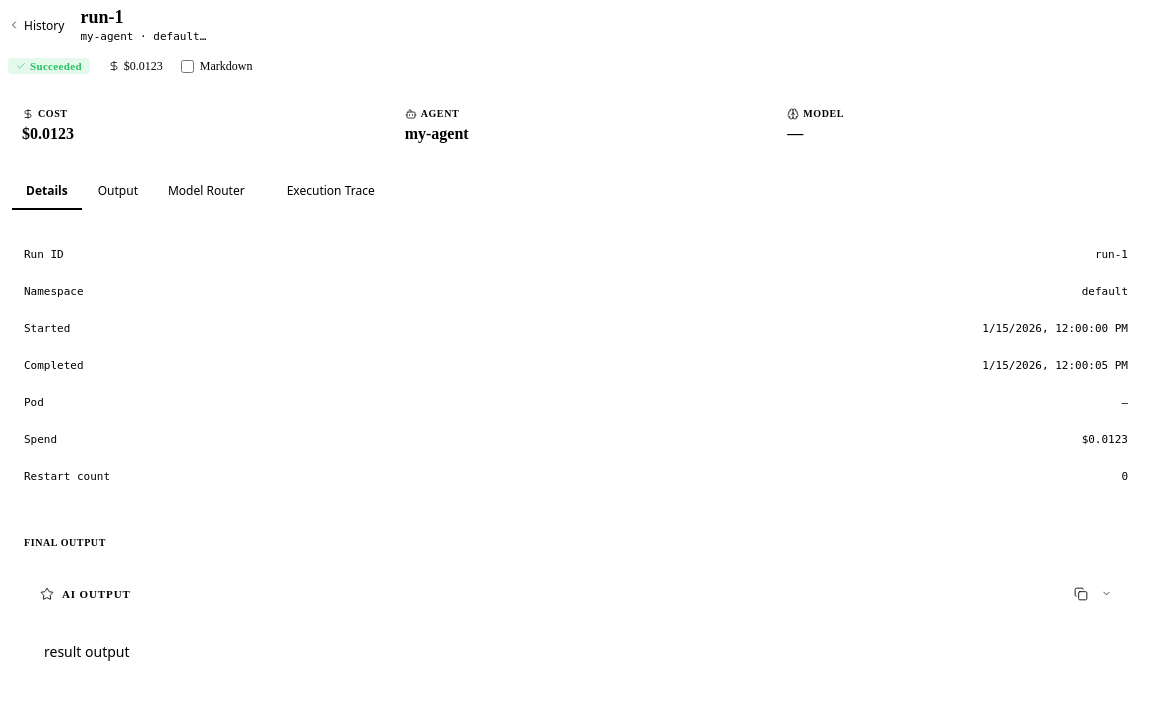
Test case: RunHistoryDetailView › renders full TraceAccordion when traceEntries are archived
expect the text "my-agent" is shown: met, box x1=405 y1=125 x2=469 y2=142
Click the tab "Execution Trace" at (331, 192), box x1=273 y1=173 x2=389 y2=210
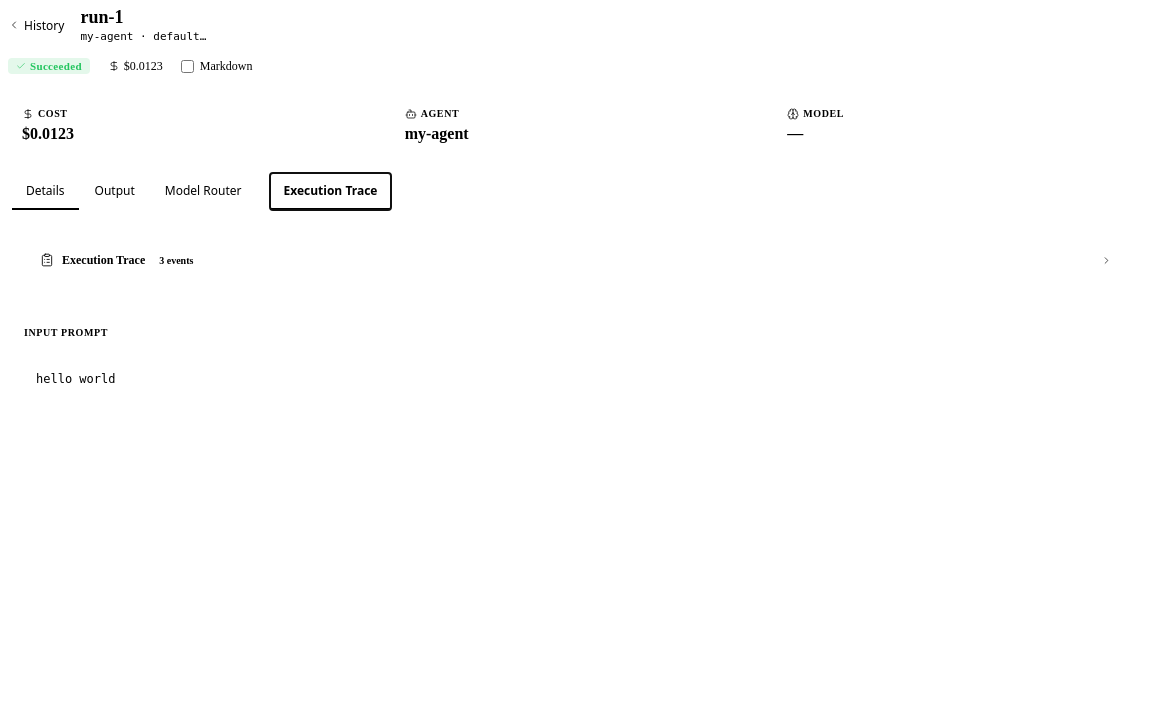
Click the button "Execution Trace 3 events" at (104, 260), box x1=24 y1=242 x2=1128 y2=279
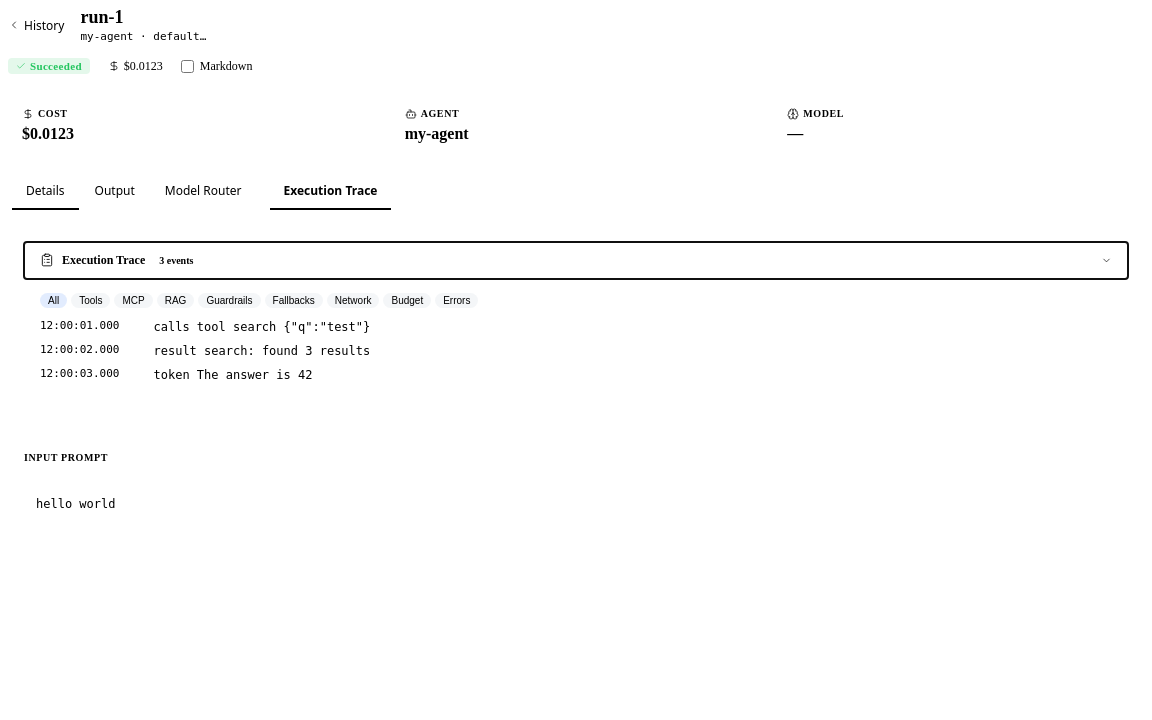
expect the text "calls tool" is shown: met, box x1=154 y1=320 x2=226 y2=334
expect the text "result search: found 3 results" is shown: met, box x1=154 y1=344 x2=370 y2=358
expect the text "The answer is 42" is shown: met, box x1=197 y1=368 x2=312 y2=382
